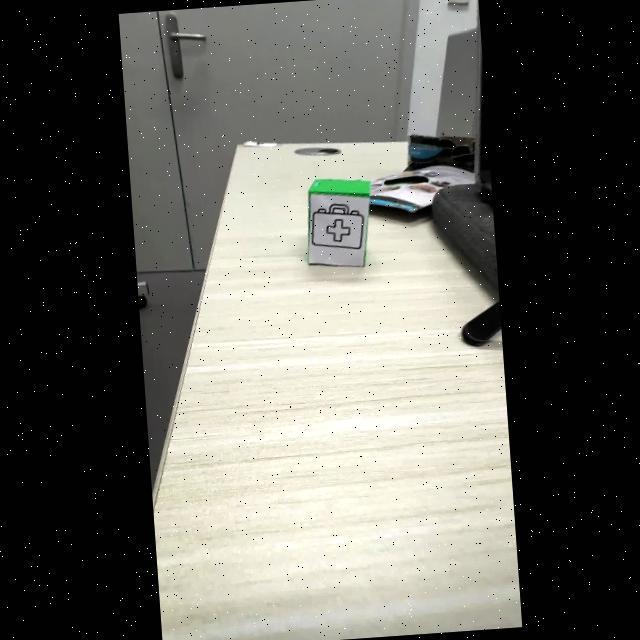Medkit: (311, 204, 363, 249)
